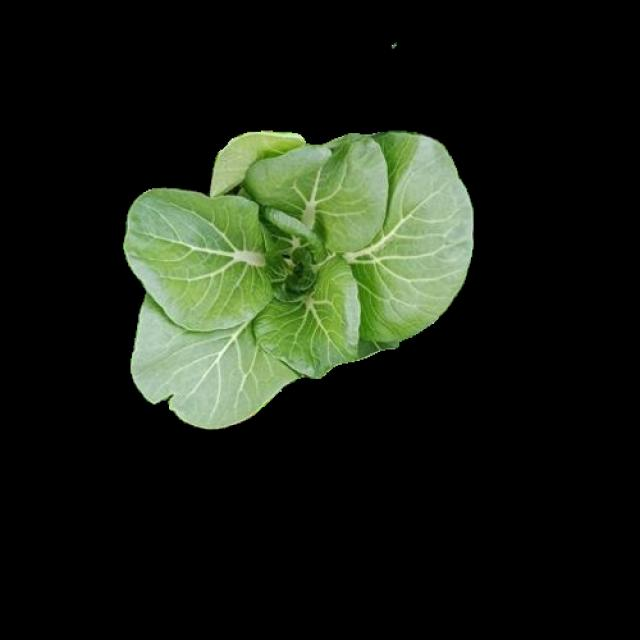mature: (128, 136, 471, 428)
unhealthy: (133, 298, 302, 428)
